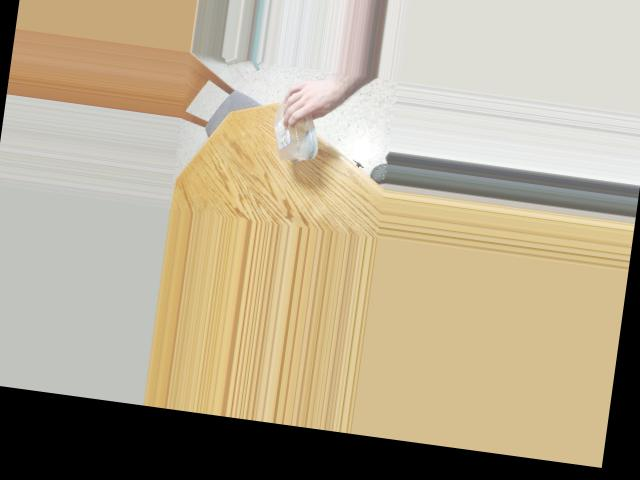cheese: (273, 86, 327, 145)
